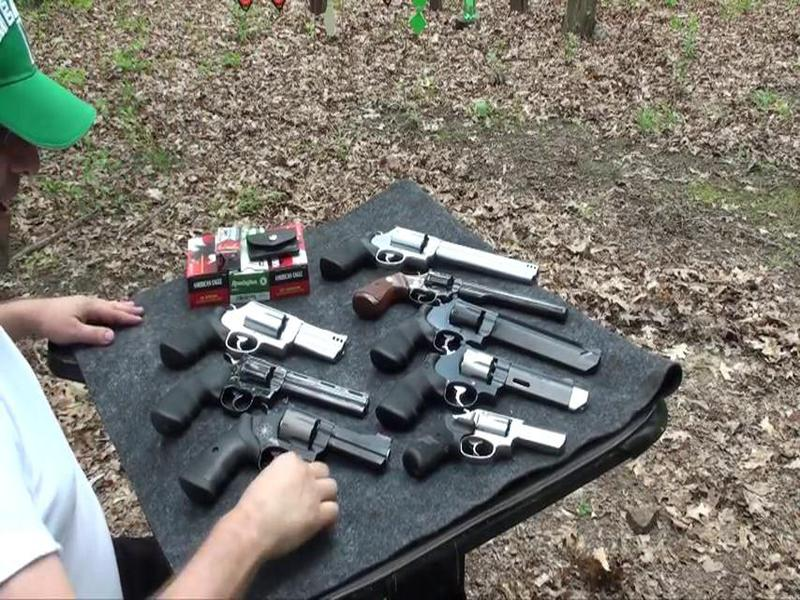Revolver: (151, 278, 347, 378), (183, 405, 383, 500), (137, 362, 369, 441)
